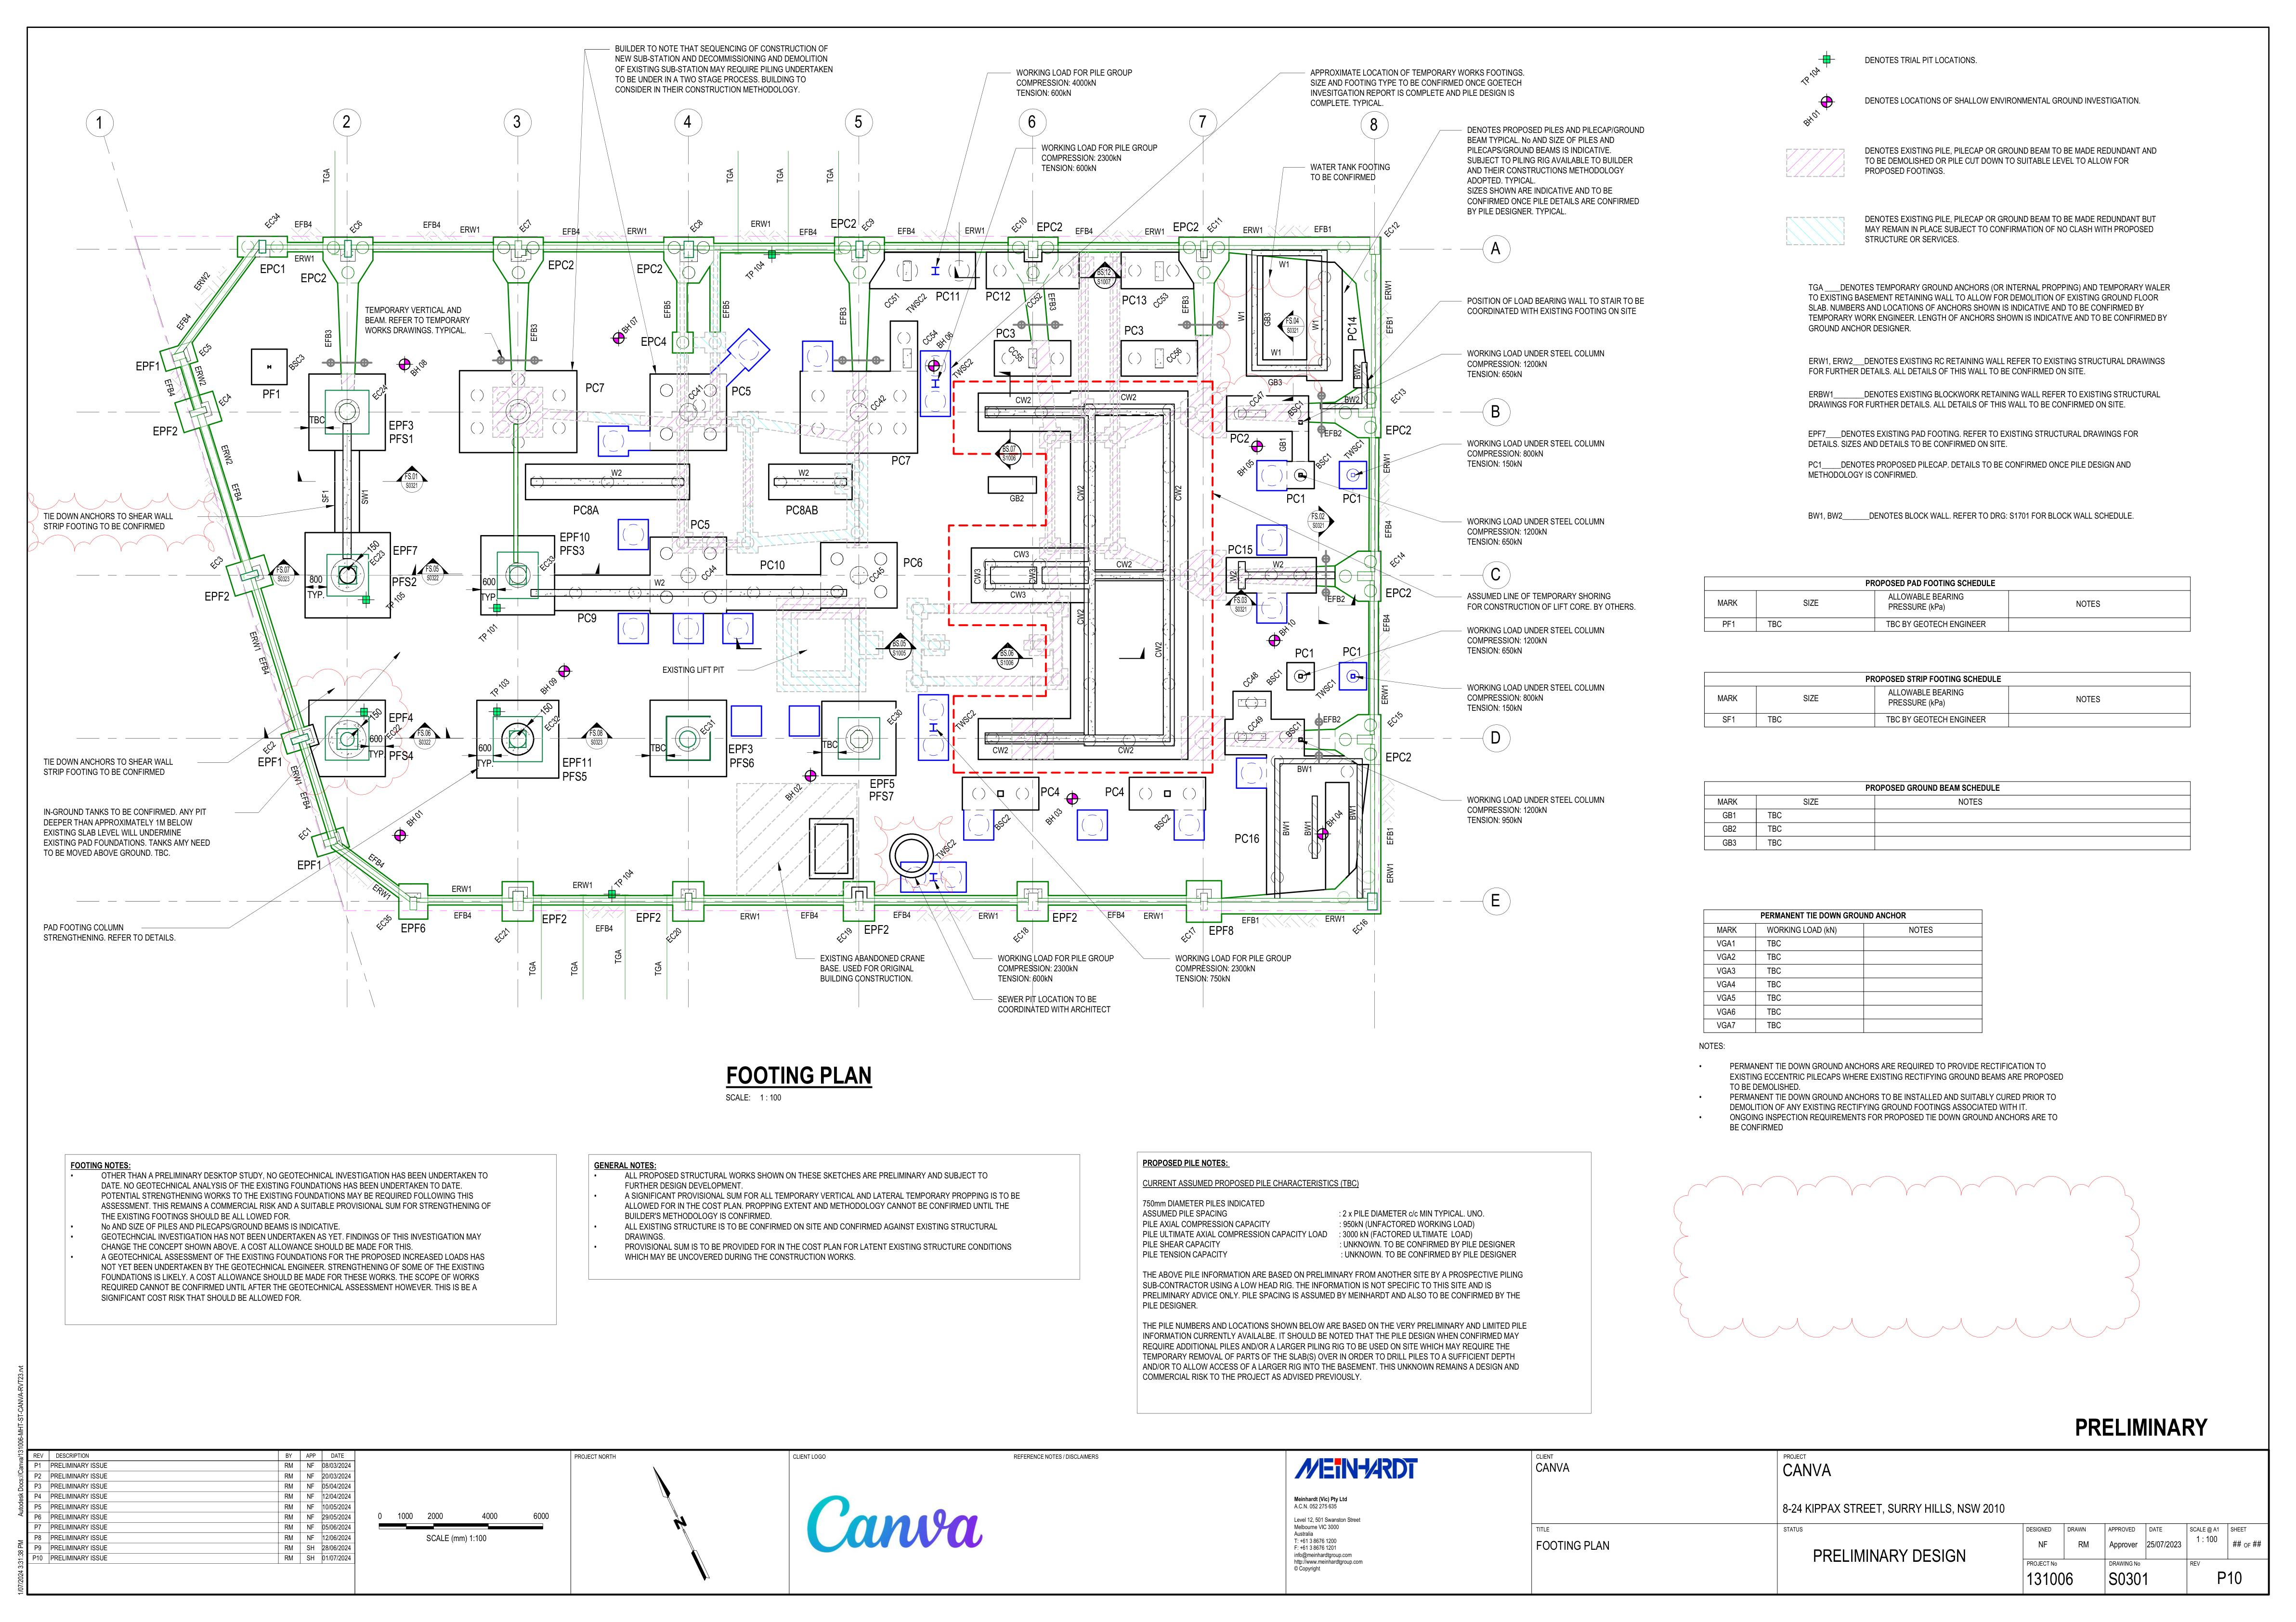BH01: (404, 809, 428, 827)
BH02: (781, 779, 804, 802)
BH03: (1044, 807, 1065, 827)
BH04: (1329, 807, 1343, 829)
BH05: (1234, 458, 1255, 476)
BH06: (937, 330, 957, 349)
BH07: (616, 314, 639, 332)
BH08: (411, 360, 428, 377)
BH09: (537, 676, 560, 695)
BH10: (1276, 621, 1299, 635)
BSC1: (1283, 398, 1308, 416), (1266, 667, 1285, 688), (1315, 451, 1334, 469), (1283, 723, 1302, 736)
BSC2: (995, 815, 1015, 832), (1152, 815, 1171, 829)
BSC3: (288, 351, 309, 372)
BW1: (1301, 820, 1311, 839), (1295, 765, 1317, 774), (1281, 820, 1290, 839), (1348, 806, 1359, 820)
BW2: (1343, 395, 1364, 405), (1352, 363, 1362, 381)
CC41: (685, 383, 704, 398)
CC42: (871, 395, 886, 411)
CC44: (700, 563, 720, 581)
CC45: (867, 565, 886, 585)
CC47: (1246, 390, 1269, 407)
CC48: (1236, 671, 1262, 688)
CC49: (1245, 714, 1264, 730)
CC51: (881, 291, 902, 307)
CC52: (1025, 291, 1043, 311)
CC53: (1152, 291, 1173, 309)
CC54: (920, 327, 937, 344)
CC55: (1009, 344, 1025, 362)
CC56: (1166, 346, 1181, 362)
CW2: (1115, 558, 1139, 572), (1116, 391, 1143, 404), (1074, 609, 1088, 627), (1173, 484, 1187, 502), (1073, 481, 1085, 500), (1013, 395, 1034, 405), (992, 748, 1011, 758), (1115, 748, 1137, 757), (1155, 639, 1164, 660)
CW3: (969, 567, 988, 586), (1015, 549, 1032, 562), (1029, 569, 1041, 585), (1008, 590, 1025, 599)
EC1: (295, 825, 316, 839)
EC10: (1011, 212, 1029, 233)
EC11: (1208, 214, 1225, 233)
EC12: (1383, 219, 1406, 239)
EC13: (1385, 384, 1410, 407)
EC14: (1388, 551, 1408, 567)
EC15: (1385, 711, 1408, 728)
EC16: (1352, 920, 1373, 936)
EC17: (1180, 927, 1199, 943)
EC18: (1013, 927, 1032, 943)
EC19: (836, 925, 855, 943)
EC2: (260, 739, 279, 753)
EC20: (664, 927, 688, 943)
EC21: (491, 927, 513, 944)
EC22: (384, 725, 404, 741)
EC23: (370, 551, 386, 563)
EC24: (372, 384, 390, 398)
EC3: (207, 553, 226, 567)
EC30: (885, 707, 908, 725)
EC31: (699, 718, 716, 734)
EC32: (544, 714, 562, 732)
EC33: (541, 555, 555, 572)
EC34: (260, 211, 281, 228)
EC35: (376, 913, 393, 934)
EC4: (219, 393, 235, 407)
EC5: (198, 342, 216, 356)
EC6: (349, 219, 365, 235)
EC7: (518, 218, 534, 232)
EC8: (686, 216, 709, 232)
EC9: (862, 218, 879, 230)
EFB1: (1311, 219, 1334, 237), (1383, 825, 1399, 850), (1383, 314, 1399, 337)
EFB2: (1318, 421, 1345, 437), (1325, 592, 1348, 606), (1322, 711, 1345, 725)
EFB3: (527, 321, 544, 344), (319, 327, 335, 348), (1046, 291, 1060, 314), (837, 302, 850, 327), (1180, 293, 1192, 314)
EFB4: (363, 850, 390, 869), (230, 481, 249, 504), (1380, 516, 1397, 539), (420, 216, 444, 232), (556, 223, 583, 237), (297, 788, 314, 809), (1071, 223, 1097, 237), (291, 216, 316, 230), (795, 225, 820, 239), (1104, 908, 1129, 922), (590, 922, 616, 934), (449, 909, 476, 922), (258, 653, 272, 676), (172, 314, 191, 330), (163, 379, 179, 398), (897, 223, 918, 235), (892, 909, 916, 920), (799, 909, 822, 920), (1380, 613, 1392, 632)
EFB5: (720, 298, 737, 323), (658, 295, 674, 318)
EPC1: (256, 262, 290, 277)
EPC2: (548, 255, 583, 274), (1385, 421, 1420, 439), (1385, 748, 1418, 765), (1171, 218, 1202, 235), (1383, 585, 1418, 600), (637, 262, 665, 279), (298, 272, 332, 286), (1036, 219, 1065, 233), (830, 214, 857, 230)
EPC4: (641, 334, 667, 348)
EPF1: (291, 853, 328, 874), (130, 355, 163, 374), (255, 755, 286, 769)
EPF10: (556, 528, 597, 542)
EPF11: (562, 751, 597, 769)
EPF2: (539, 911, 574, 927), (153, 420, 181, 439), (200, 588, 233, 604), (862, 922, 893, 937), (634, 908, 664, 923), (1051, 911, 1081, 925)
EPF3: (388, 414, 420, 432), (728, 737, 758, 755)
EPF4: (386, 711, 420, 723)
EPF5: (865, 776, 900, 790)
EPF6: (398, 922, 428, 934)
EPF7: (388, 537, 421, 556)
EPF8: (1206, 922, 1238, 937)
ERW1: (1381, 449, 1399, 477), (1380, 683, 1397, 711), (369, 881, 391, 902), (244, 627, 263, 651), (567, 876, 597, 892), (746, 218, 776, 232), (288, 764, 305, 786), (1383, 276, 1397, 304), (625, 223, 651, 237), (458, 223, 483, 237), (1139, 225, 1167, 237), (1383, 862, 1397, 886), (976, 909, 1004, 922), (449, 881, 477, 894), (962, 225, 988, 237), (1143, 909, 1167, 922), (737, 911, 765, 922), (1241, 225, 1266, 235), (1322, 913, 1346, 923), (297, 253, 318, 263)
ERW2: (186, 269, 212, 291), (219, 441, 235, 472), (193, 363, 212, 388)
GB1: (1273, 437, 1290, 453)
GB2: (1008, 495, 1025, 502)
GB3: (1264, 376, 1288, 390), (1262, 309, 1274, 330)
PC1: (1280, 488, 1309, 506), (1339, 490, 1366, 506), (1338, 642, 1364, 658), (1295, 646, 1317, 658)
PC10: (755, 556, 792, 572)
PC11: (934, 288, 964, 304)
PC12: (981, 288, 1015, 304)
PC13: (1120, 291, 1150, 309)
PC14: (1343, 311, 1362, 342)
PC15: (1229, 541, 1255, 555)
PC16: (1234, 829, 1262, 848)
PC2: (1225, 434, 1253, 444)
PC3: (1120, 323, 1150, 339), (992, 327, 1020, 339)
PC4: (1104, 781, 1125, 799), (1041, 783, 1060, 799)
PC5: (683, 514, 714, 534), (730, 384, 755, 398)
PC6: (902, 551, 927, 572)
PC7: (888, 449, 916, 469), (581, 381, 611, 398)
PC8A: (570, 500, 606, 518)
PC8AB: (779, 504, 823, 518)
PC9: (574, 611, 604, 627)
PF1: (260, 386, 288, 402)
PFS1: (390, 432, 420, 448)
PFS2: (390, 574, 421, 590)
PFS3: (558, 546, 590, 558)
PFS4: (386, 748, 418, 762)
PFS5: (563, 772, 593, 786)
PFS6: (728, 758, 757, 771)
PFS7: (867, 790, 900, 804)
SF1: (319, 486, 330, 504)
SW1: (362, 488, 374, 507)
TGA: (823, 167, 841, 190), (651, 958, 669, 981), (723, 163, 739, 183), (611, 946, 628, 962), (319, 165, 334, 184), (525, 958, 539, 978), (569, 958, 579, 980), (778, 167, 790, 183)
TWSC1: (1315, 679, 1338, 699), (1339, 442, 1366, 458)
TWSC2: (951, 356, 976, 379), (908, 293, 930, 316), (934, 839, 958, 858), (951, 709, 976, 728)
W1: (1278, 258, 1295, 272), (1267, 344, 1287, 356), (1234, 309, 1246, 323), (1313, 319, 1324, 334)
W2: (1273, 558, 1290, 571), (1225, 569, 1241, 581), (799, 467, 814, 477), (655, 576, 667, 586), (611, 469, 625, 477)
